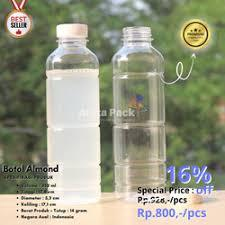BIODEGRADABLE: (39, 21, 109, 203), (110, 25, 166, 199)
